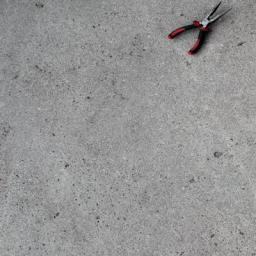FOD: (165, 2, 235, 55)
